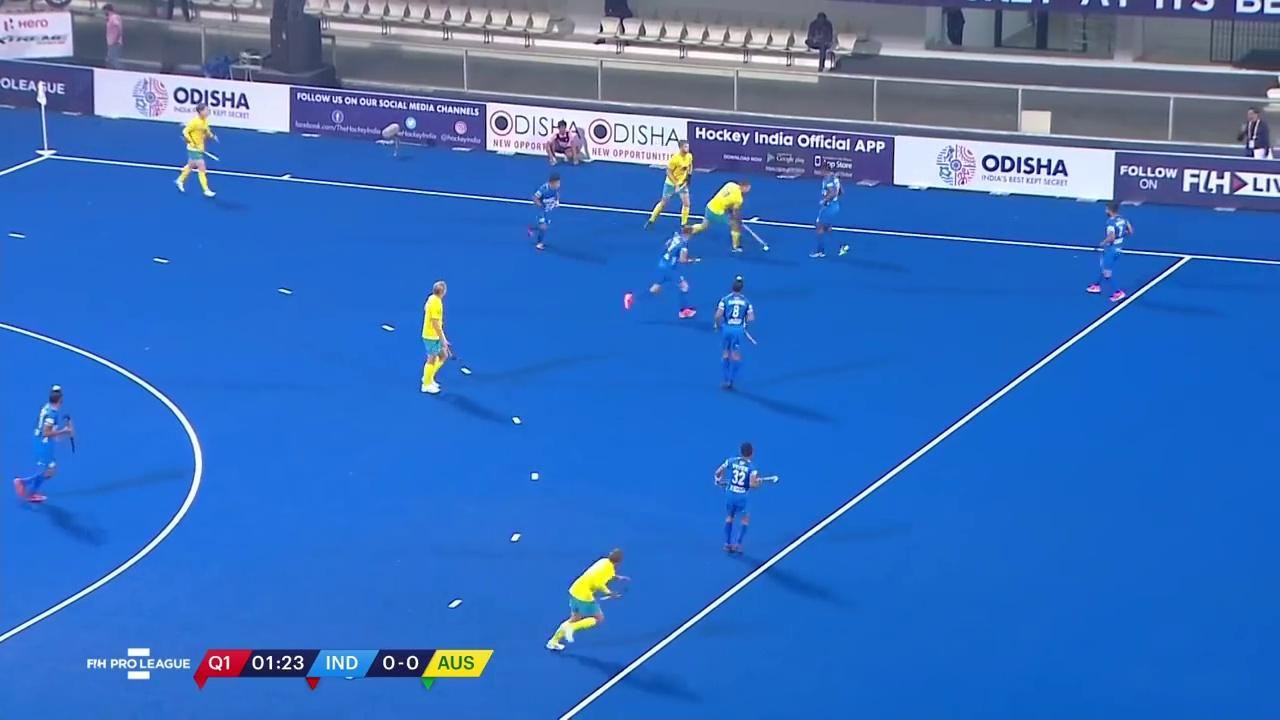ball: (758, 241, 774, 257)
